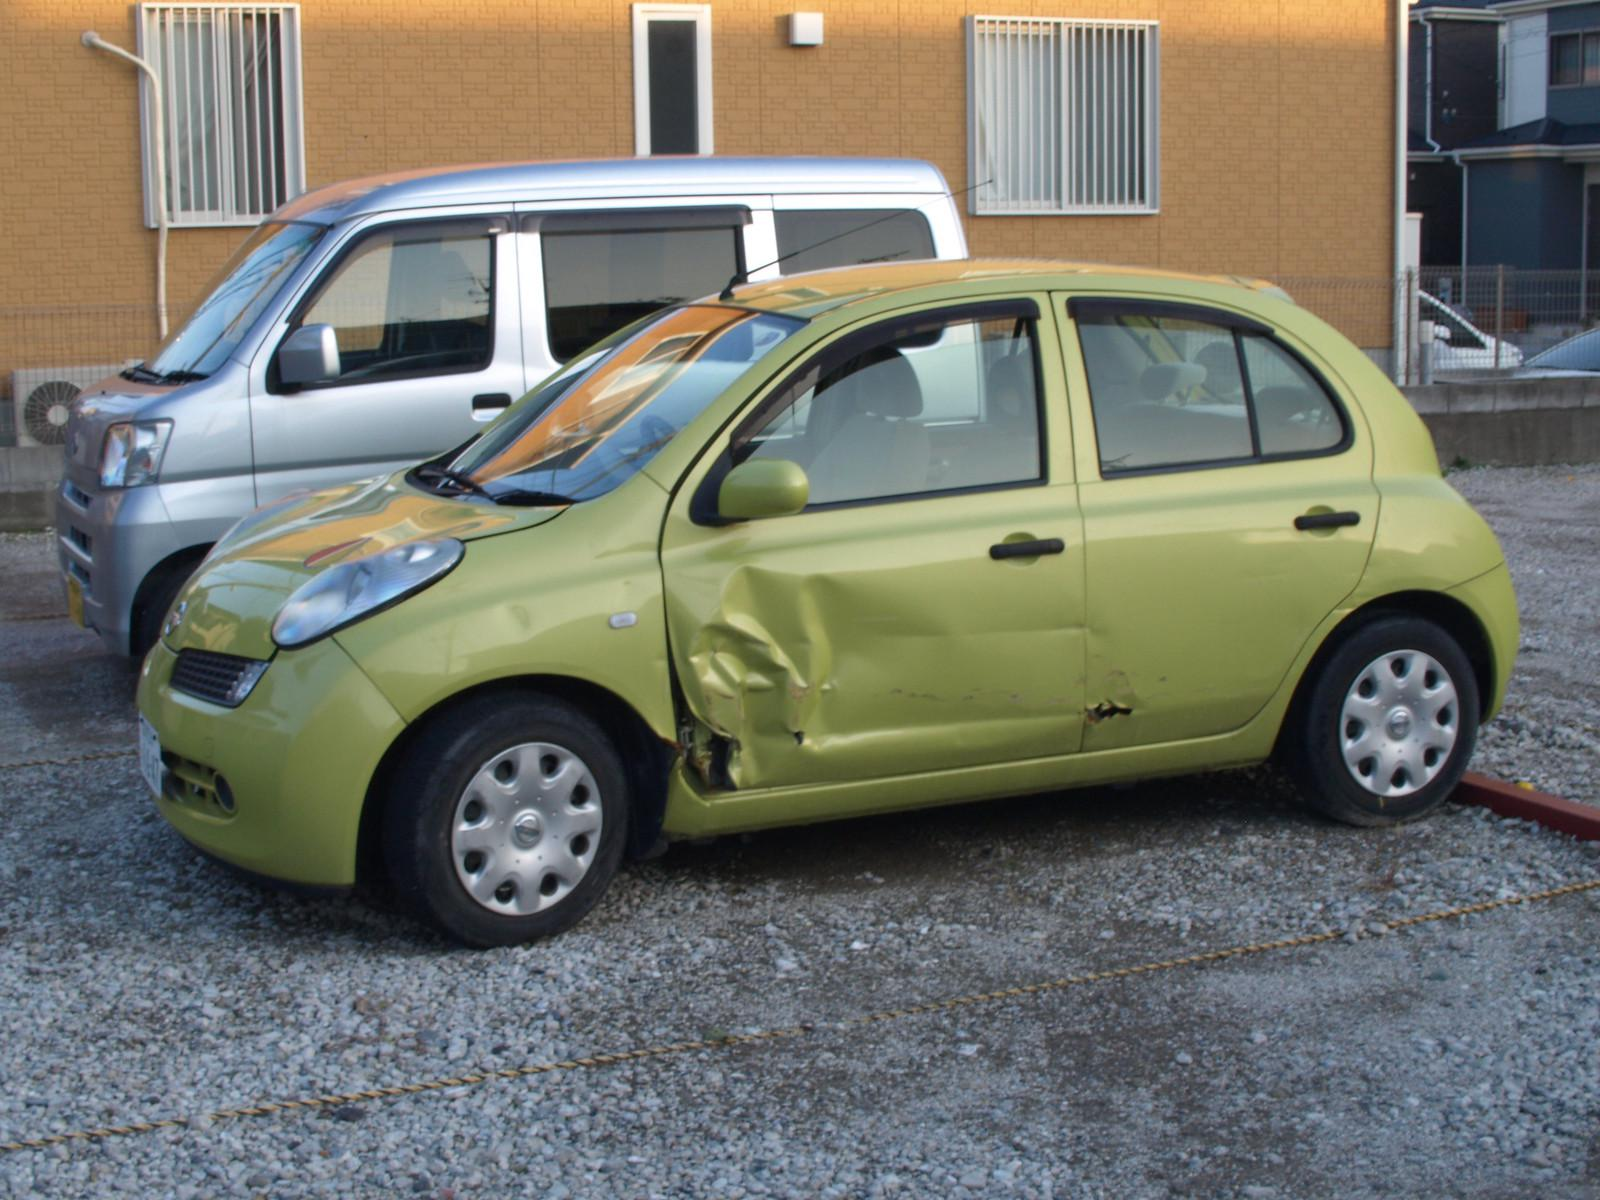doorouter-dent: (648, 430, 1039, 773)
fender-dent: (365, 521, 607, 716)
